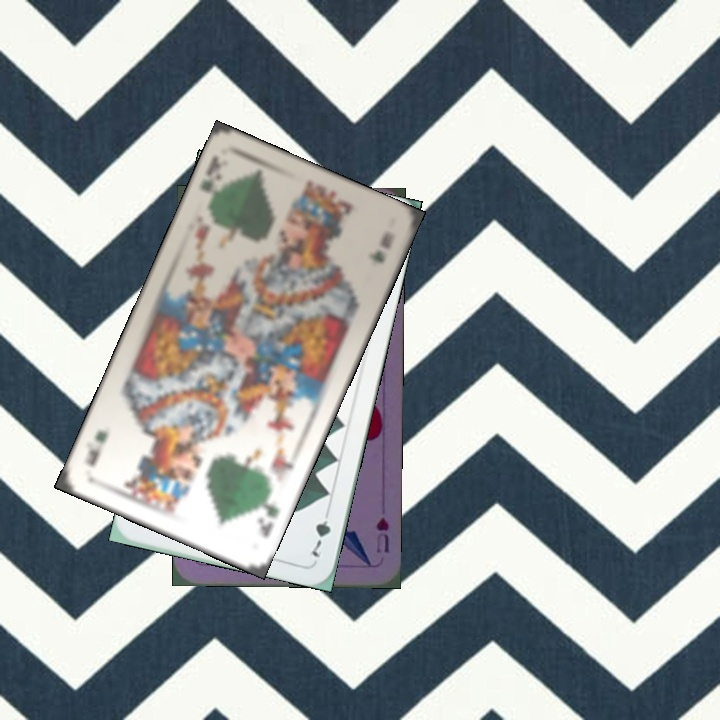G7: (307, 503, 334, 560)
GK: (195, 150, 223, 209), (253, 489, 282, 540)
HU: (372, 513, 392, 556)
